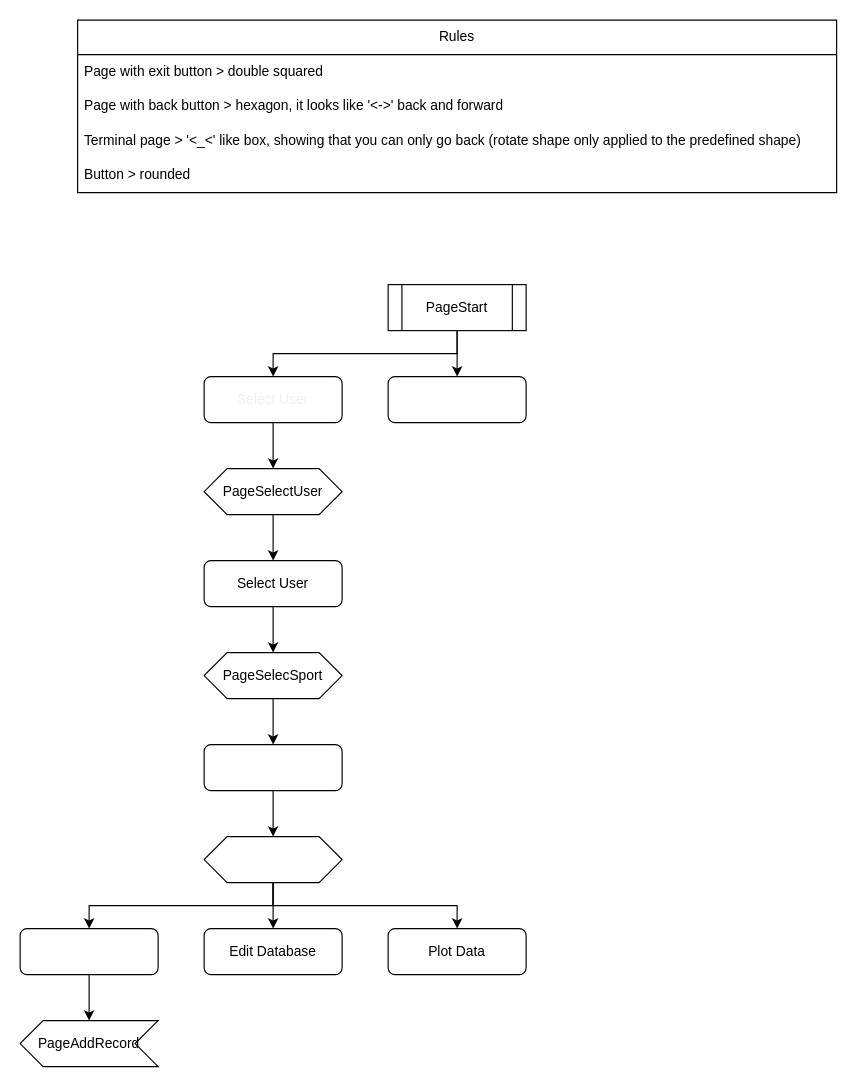
This 857x1087 diagram has some shape labels left out. The centre of each missing label's shape, as x and y in pixels:
Add Record: the point at 88,951
Manage Users: the point at 456,399
PageRunning: the point at 272,859
Running: the point at 272,767
